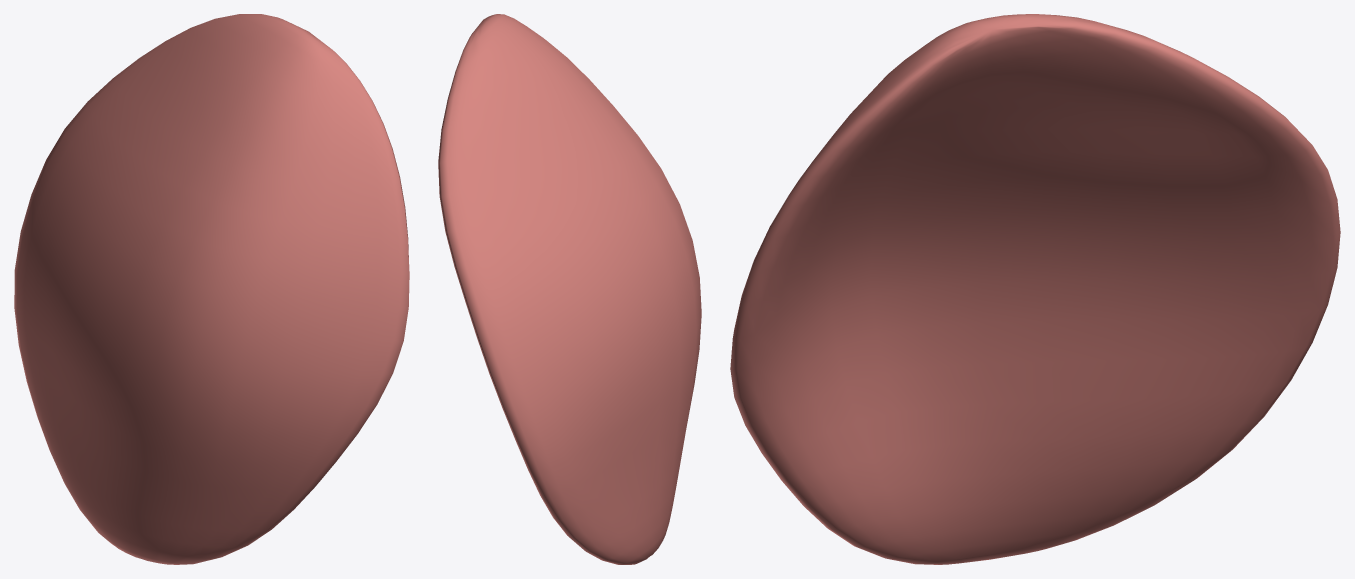
3 renders of one model, left to right at view 1: azimuth 30°, elevation 25°; view 2: azimuth 150°, elevation 25°; view 3: azimuth 270°, elevation 25°, orthographic. The views are drawn at different scales.
Parts seen in each view (by area): view 1: ZA_75d445e02e39f29a; view 2: ZA_75d445e02e39f29a; view 3: ZA_75d445e02e39f29a.
Part boxes in pixels (<box>): ZA_75d445e02e39f29a: <box>14,14,409,564</box>; ZA_75d445e02e39f29a: <box>438,14,701,564</box>; ZA_75d445e02e39f29a: <box>730,14,1340,564</box>.
Bounding box in the file's own units: 0.0135 × 0.0289 × 0.0249.
